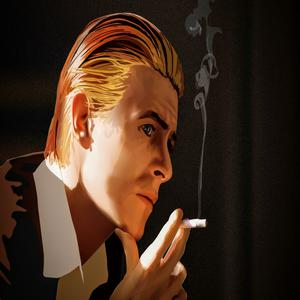cigarette: (175, 218, 209, 228)
